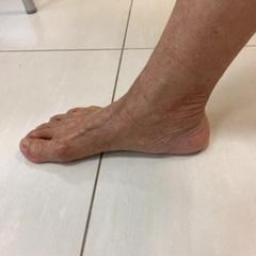Medial View -Right Foot-: (4, 54, 237, 184)
